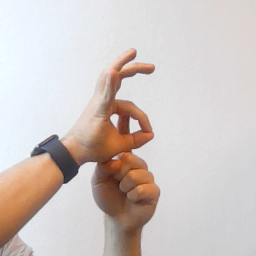OE: (75, 46, 170, 230)
